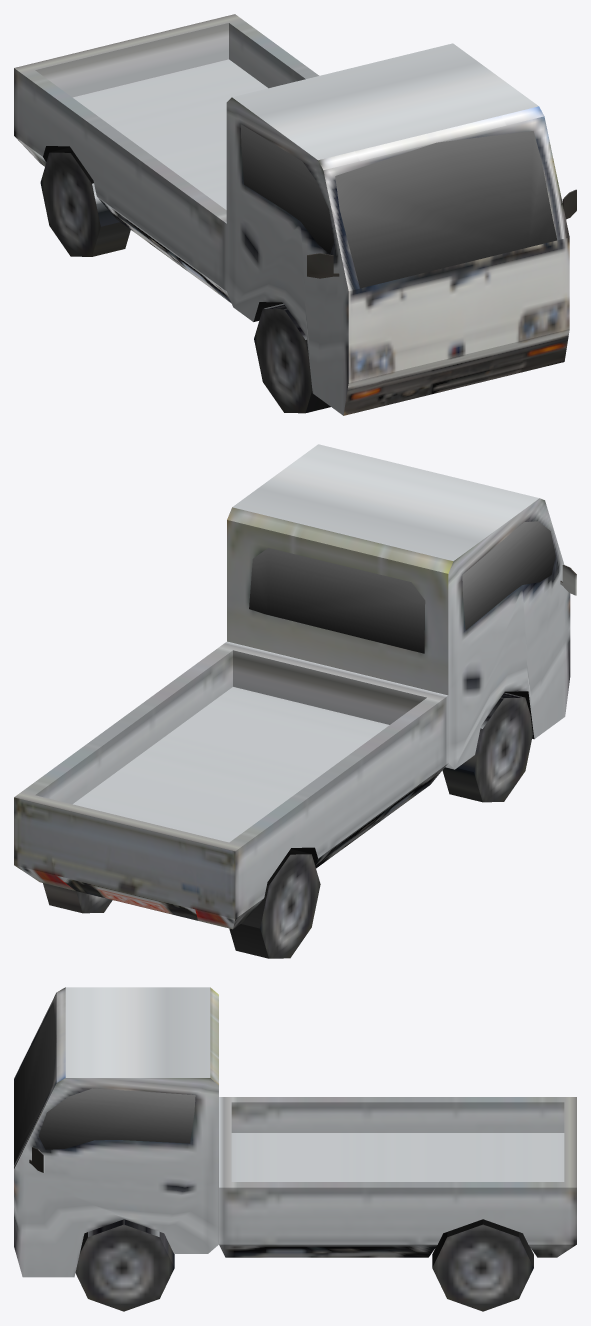
File: Trucky.fbx
3 views of the same model, one above another, from view 1: azimuth 30°, elevation 25°; view 2: azimuth 150°, elevation 25°; view 3: azimuth 270°, elevation 25° (orthographic). The views are drawn at different scales.
Visible parts, largest first — view 1: Trucky; view 2: Trucky; view 3: Trucky.
Part boxes in pixels (x1,y1,x2,y2): Trucky: [14, 14, 576, 415]; Trucky: [14, 444, 576, 958]; Trucky: [14, 987, 576, 1311].
Size of the model in its own units: 186 by 183 by 400.
